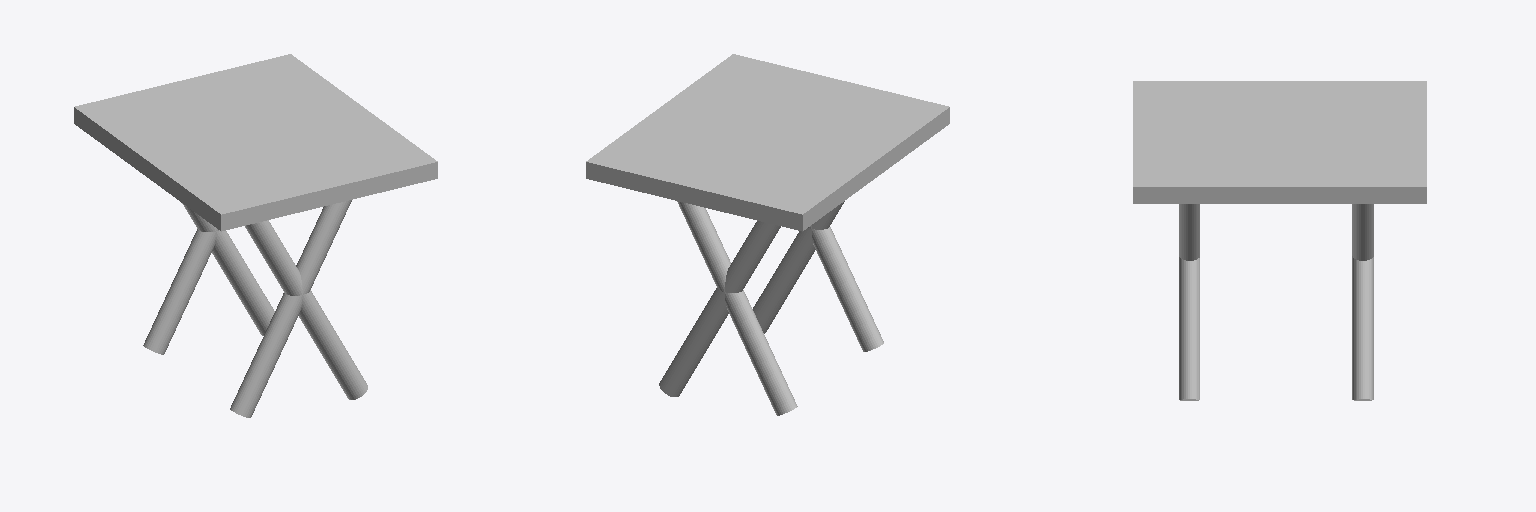
Rendered from catrecito.obj.
The picture shows the model from 3 angles: view 1: azimuth 30°, elevation 25°; view 2: azimuth 150°, elevation 25°; view 3: azimuth 270°, elevation 25°; orthographic projection.
Visible parts, largest first — view 1: catrecillo_Cylinder.001; view 2: catrecillo_Cylinder.001; view 3: catrecillo_Cylinder.001.
Boxes of the visible parts, x1,y1,x2,y2 form: catrecillo_Cylinder.001: [74, 54, 437, 417]; catrecillo_Cylinder.001: [586, 54, 949, 415]; catrecillo_Cylinder.001: [1133, 81, 1426, 400].
Bounding box in the file's own units: 1.4 × 1.5 × 1.65.